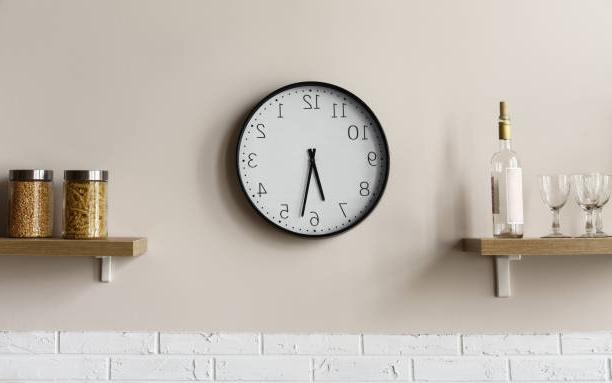clock: (213, 70, 394, 242)
